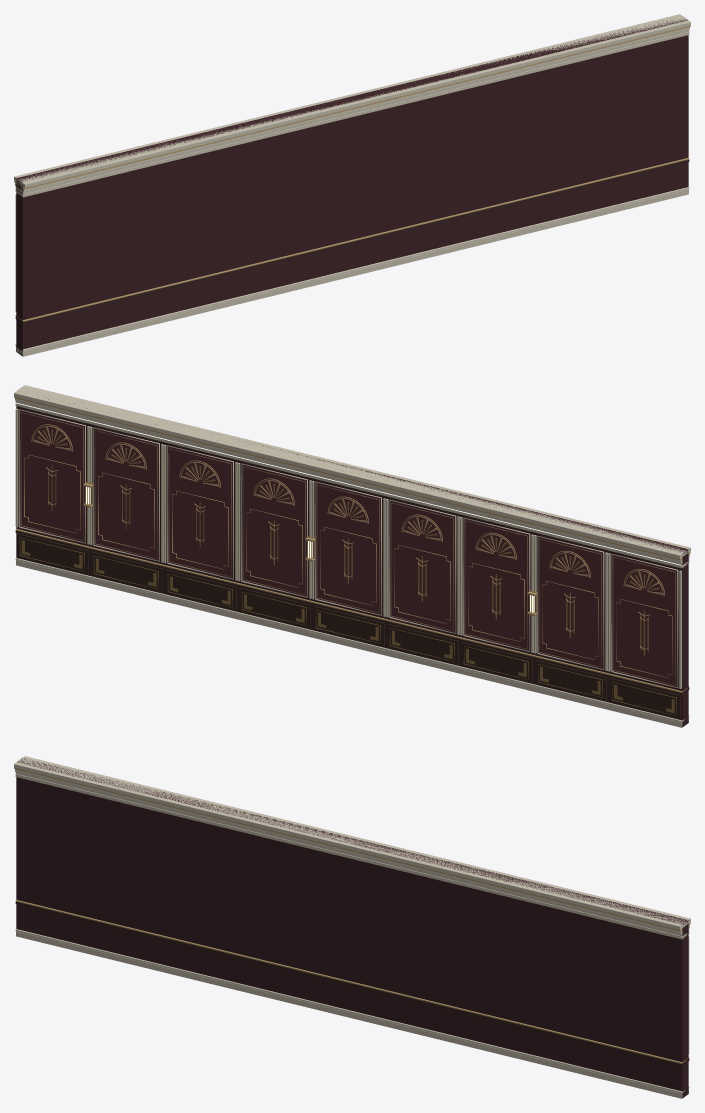
Rendered from hotel-entry-wall-west.glb.
The picture shows the model from 3 angles, top to bottom: view 1: azimuth 30°, elevation 25°; view 2: azimuth 150°, elevation 25°; view 3: azimuth 330°, elevation 25°; orthographic projection.
Parts seen in each view (by area): view 1: Entry wall-west / Entry deep oxblood reveals, Entry wall-west / Entry carved limestone, Entry wall-west / Entry ivory marble, Entry wall-west / Entry champagne brass, Entry wall-west / Entry dark walnut; view 2: Entry wall-west / Entry smoky oxblood lacquer, Entry wall-west / Entry carved limestone, Entry wall-west / Entry dark walnut, Entry wall-west / Entry champagne brass, Entry wall-west / Entry deep oxblood reveals, Entry wall-west / Entry aged bronze, Entry wall-west / Entry ivory marble, Entry wall-west / Entry warm opal; view 3: Entry wall-west / Entry deep oxblood reveals, Entry wall-west / Entry carved limestone, Entry wall-west / Entry ivory marble, Entry wall-west / Entry champagne brass, Entry wall-west / Entry dark walnut.
Boxes of the visible parts, x1,y1,x2,y2 form: Entry wall-west / Entry deep oxblood reveals: [16, 19, 688, 356]; Entry wall-west / Entry carved limestone: [14, 14, 690, 356]; Entry wall-west / Entry ivory marble: [15, 27, 689, 351]; Entry wall-west / Entry champagne brass: [14, 25, 690, 321]; Entry wall-west / Entry dark walnut: [15, 159, 689, 324]; Entry wall-west / Entry smoky oxblood lacquer: [20, 410, 677, 686]; Entry wall-west / Entry carved limestone: [14, 385, 690, 727]; Entry wall-west / Entry dark walnut: [15, 530, 689, 719]; Entry wall-west / Entry champagne brass: [14, 396, 690, 692]; Entry wall-west / Entry deep oxblood reveals: [16, 390, 688, 727]; Entry wall-west / Entry aged bronze: [16, 411, 679, 715]; Entry wall-west / Entry ivory marble: [15, 398, 689, 722]; Entry wall-west / Entry warm opal: [15, 402, 681, 612]; Entry wall-west / Entry deep oxblood reveals: [16, 758, 688, 1098]; Entry wall-west / Entry carved limestone: [14, 756, 690, 1098]; Entry wall-west / Entry ivory marble: [15, 769, 689, 1093]; Entry wall-west / Entry champagne brass: [14, 767, 690, 1063]; Entry wall-west / Entry dark walnut: [15, 901, 689, 1066].
Bounding box in the file's own units: 27.28 × 6.8 × 0.833.
8 materials, 2 textured.
